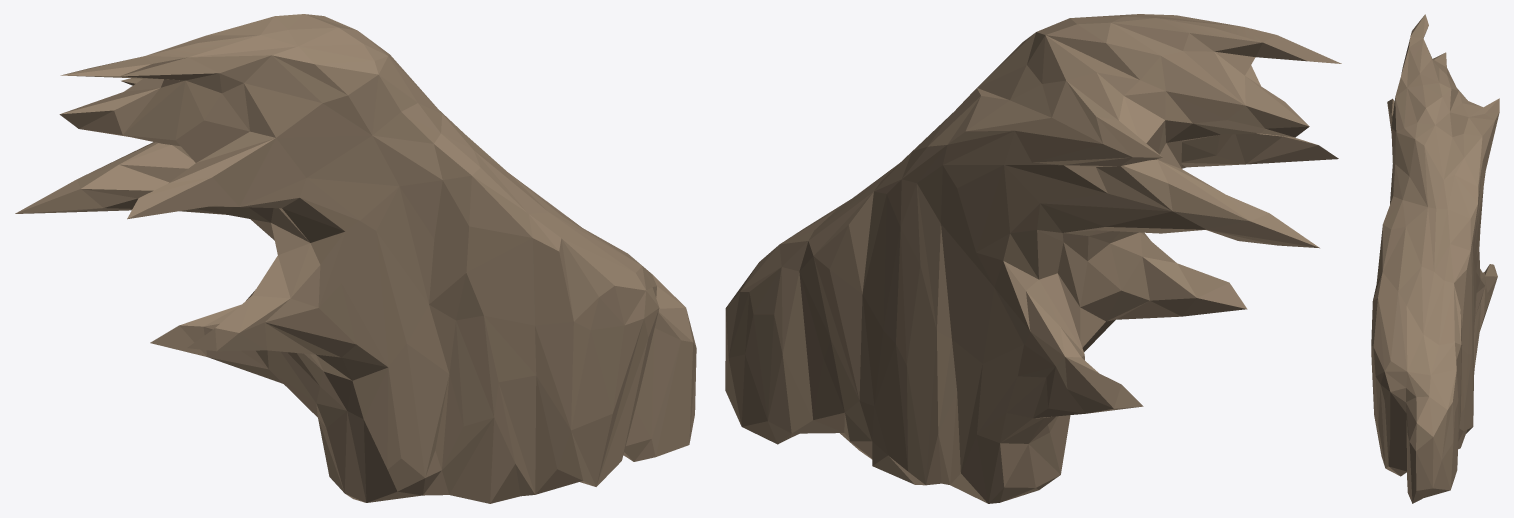
Rendered from SM_Env_Rock_Spikes_Sharp_02.fbx.
The picture shows the model from 3 angles, left to right: view 1: azimuth 30°, elevation 25°; view 2: azimuth 150°, elevation 25°; view 3: azimuth 270°, elevation 25°; orthographic projection. The views are drawn at different scales.
Parts seen in each view (by area): view 1: SM_Env_Rock_Spikes_Sharp_02; view 2: SM_Env_Rock_Spikes_Sharp_02; view 3: SM_Env_Rock_Spikes_Sharp_02.
Boxes of the visible parts, x1,y1,x2,y2 form: SM_Env_Rock_Spikes_Sharp_02: (15,14,696,503); SM_Env_Rock_Spikes_Sharp_02: (725,14,1341,503); SM_Env_Rock_Spikes_Sharp_02: (1371,14,1499,503).
Bounding box in the file's own units: 4418 × 3405 × 1278.
